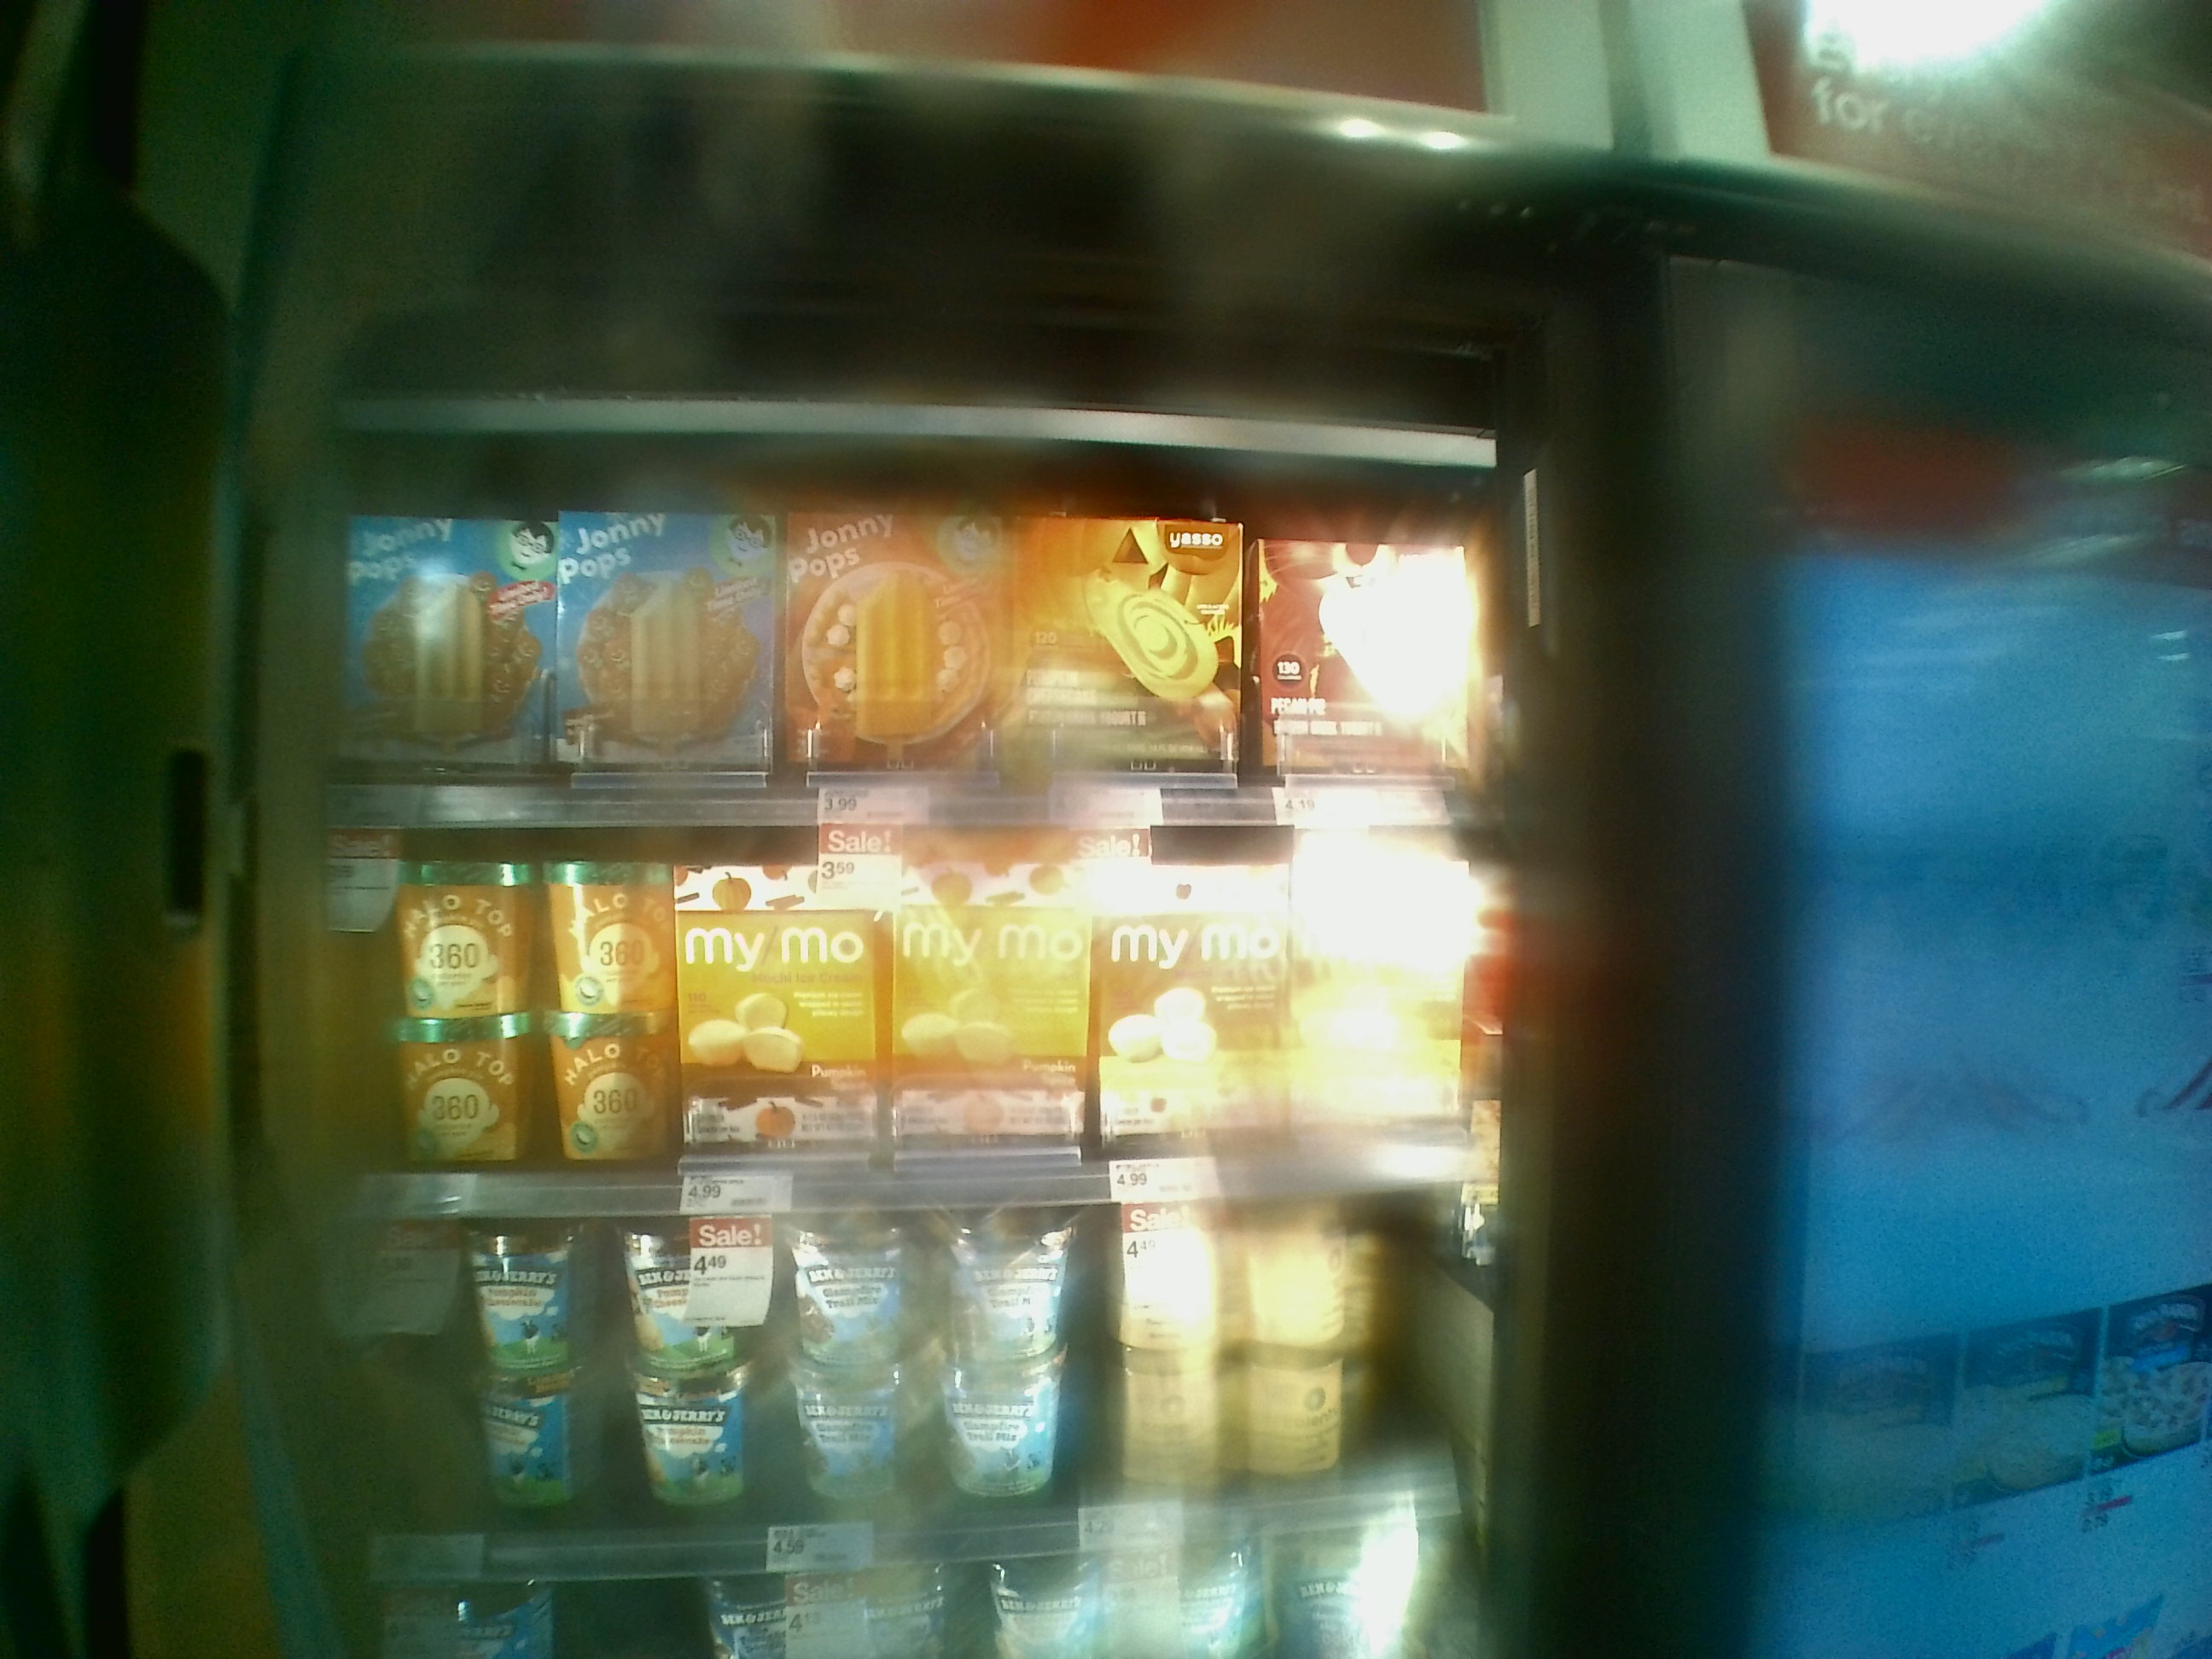shelf: (270, 394, 1541, 843), (261, 823, 1508, 1213), (254, 1195, 1501, 1523)
